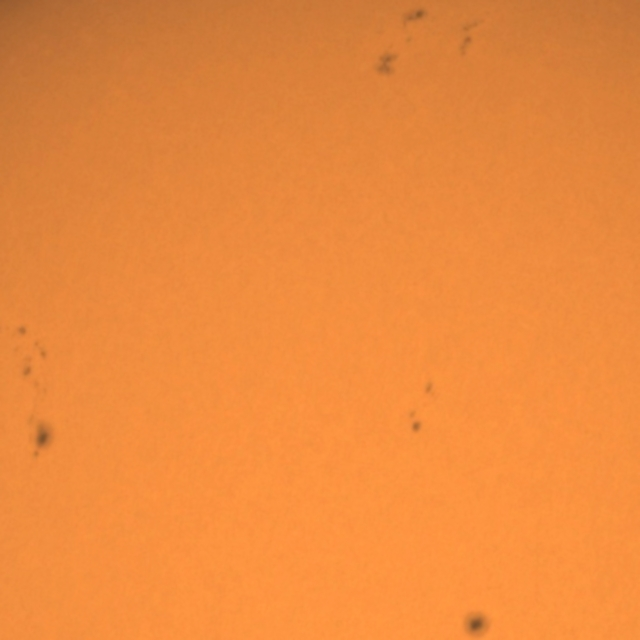sunspot: (16, 339, 50, 386), (14, 322, 49, 364), (21, 357, 50, 398), (29, 419, 55, 462), (374, 43, 400, 79), (462, 609, 493, 638), (401, 7, 428, 35), (457, 22, 477, 59), (406, 408, 425, 436), (421, 378, 437, 399), (16, 324, 28, 338)
